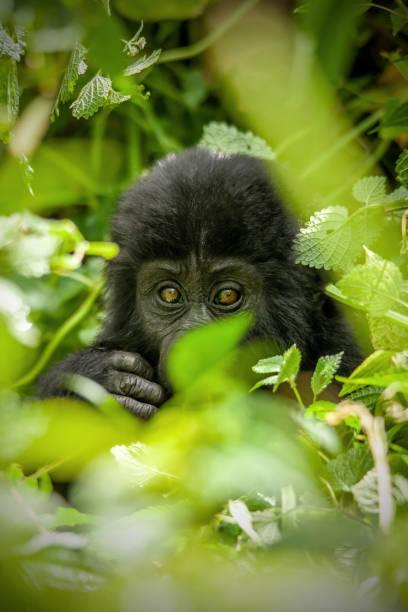goriile_montagne: (52, 144, 364, 424)
